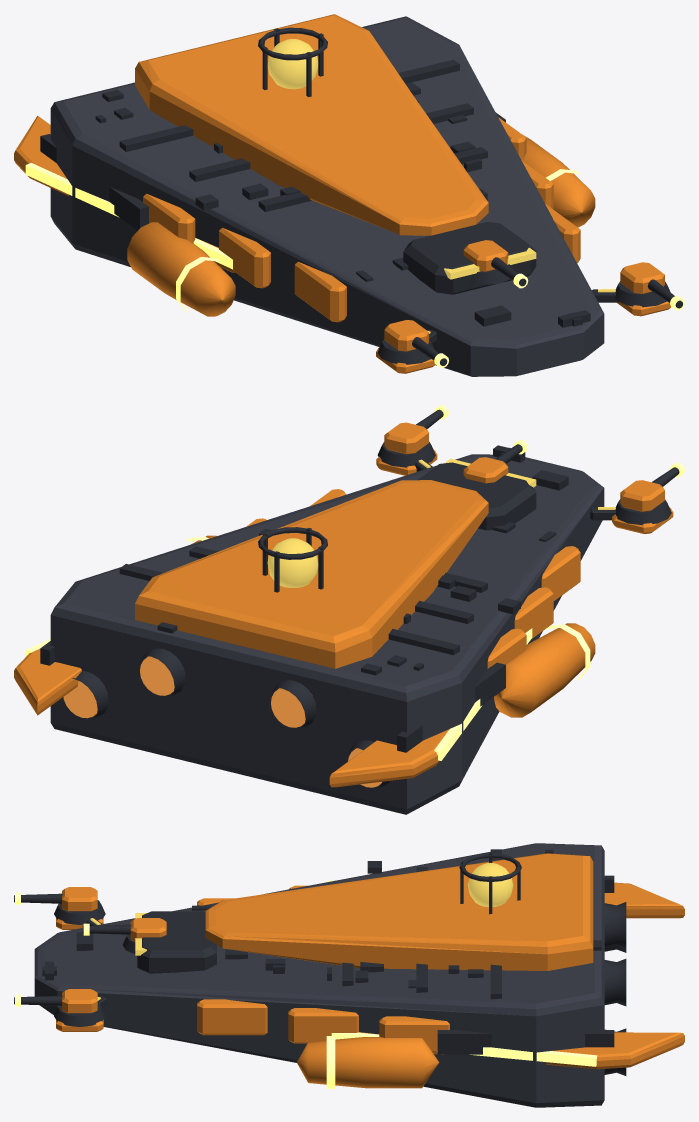
File: ship_vortex_gale.glb
3 renders of one model, top to bottom at view 1: azimuth 30°, elevation 25°; view 2: azimuth 150°, elevation 25°; view 3: azimuth 270°, elevation 25°, orthographic. The views are drawn at different scales.
Parts seen in each view (by area): view 1: primary, secondary, trim, accent, glow; view 2: primary, secondary, trim, engine, glow, accent; view 3: secondary, primary, trim, accent, glow.
Boxes of the visible parts, x1=… form: primary: x1=50, y1=16, x2=604, y2=376; secondary: x1=14, y1=14, x2=670, y2=373; trim: x1=40, y1=27, x2=682, y2=365; accent: x1=25, y1=163, x2=684, y2=367; glow: x1=267, y1=39, x2=615, y2=333; primary: x1=50, y1=454, x2=604, y2=814; secondary: x1=14, y1=422, x2=673, y2=787; trim: x1=40, y1=409, x2=679, y2=788; engine: x1=63, y1=656, x2=381, y2=787; glow: x1=267, y1=458, x2=615, y2=587; accent: x1=25, y1=405, x2=684, y2=760; secondary: x1=56, y1=853, x2=684, y2=1088; primary: x1=34, y1=843, x2=604, y2=1107; trim: x1=14, y1=849, x2=626, y2=1075; accent: x1=15, y1=880, x2=597, y2=1088; glow: x1=90, y1=863, x2=513, y2=1000.
Bounding box in the file's own units: 2.54 × 1.1 × 4.
